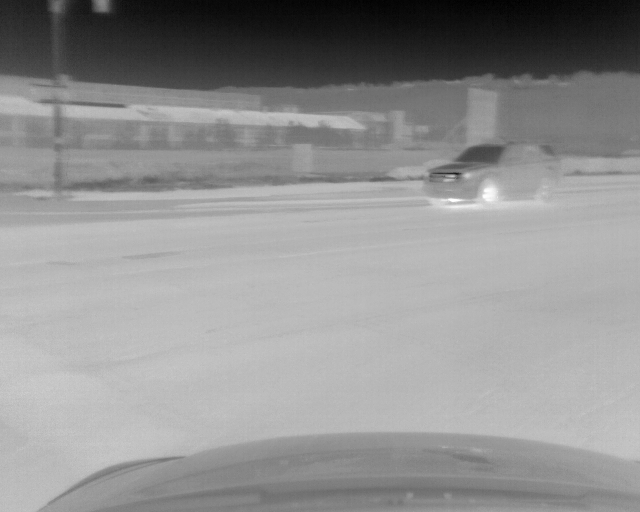car: (423, 141, 558, 205)
